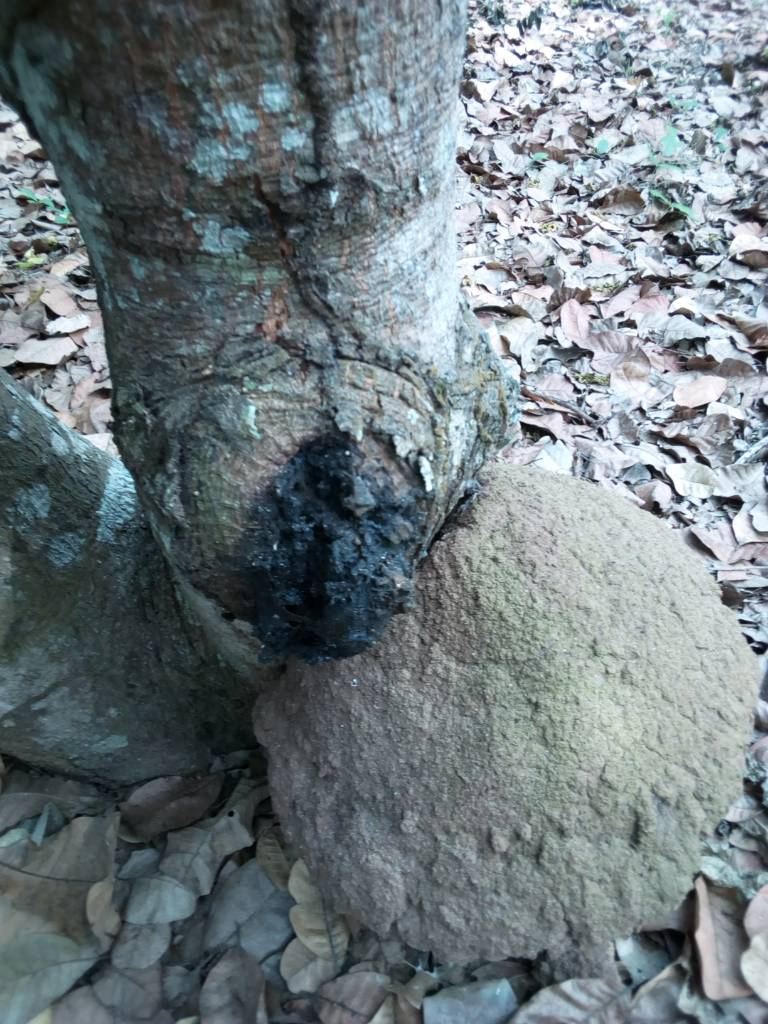Termites: (460, 474, 729, 932), (274, 663, 488, 917)
